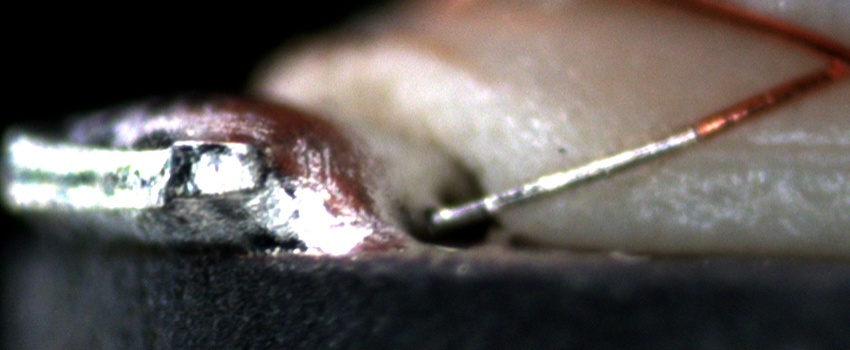CL: (802, 31, 849, 92)
DL: (736, 118, 850, 174)
TS: (429, 125, 698, 231)
